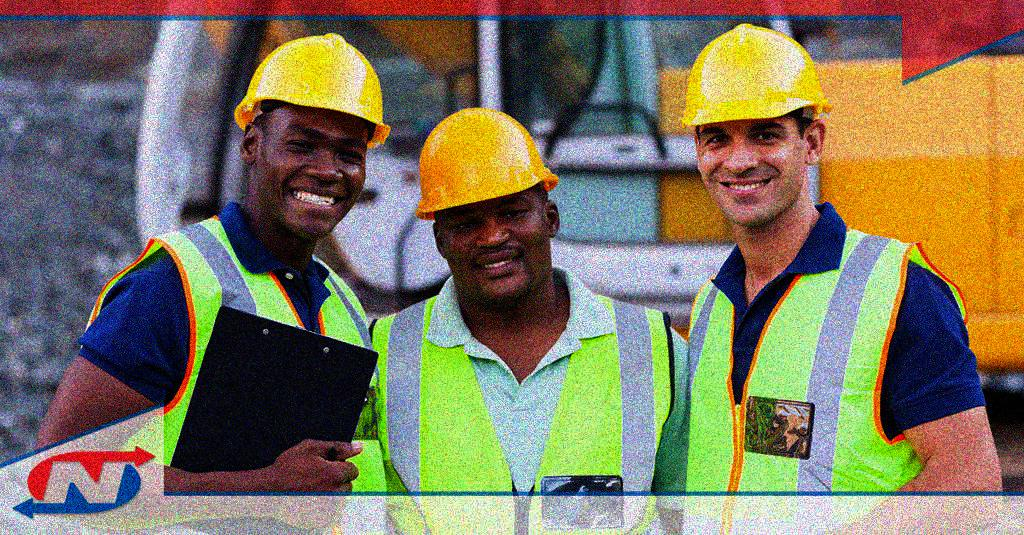helmet: (233, 31, 394, 235), (682, 24, 833, 226), (416, 108, 563, 306)
